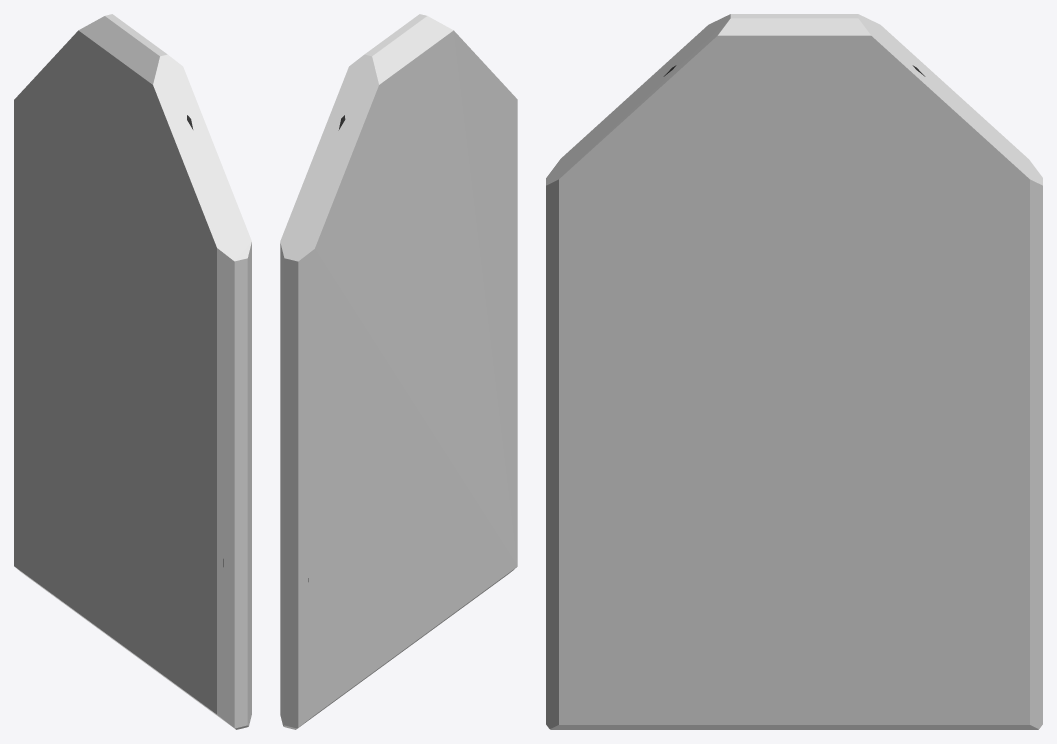
File: SM_gate_03.fbx
3 views of the same model, side by side, from view 1: azimuth 30°, elevation 25°; view 2: azimuth 150°, elevation 25°; view 3: azimuth 270°, elevation 25° (orthographic). The views are drawn at different scales.
Visible parts, largest first — view 1: SM_gate_03_ConvexHulls; view 2: SM_gate_03_ConvexHulls; view 3: SM_gate_03_ConvexHulls.
Boxes of the visible parts, <box> form: SM_gate_03_ConvexHulls: <box>14,14,251,729</box>; SM_gate_03_ConvexHulls: <box>280,14,517,729</box>; SM_gate_03_ConvexHulls: <box>546,14,1042,729</box>.
Size of the model in its own units: 19.75 by 216 by 340.
